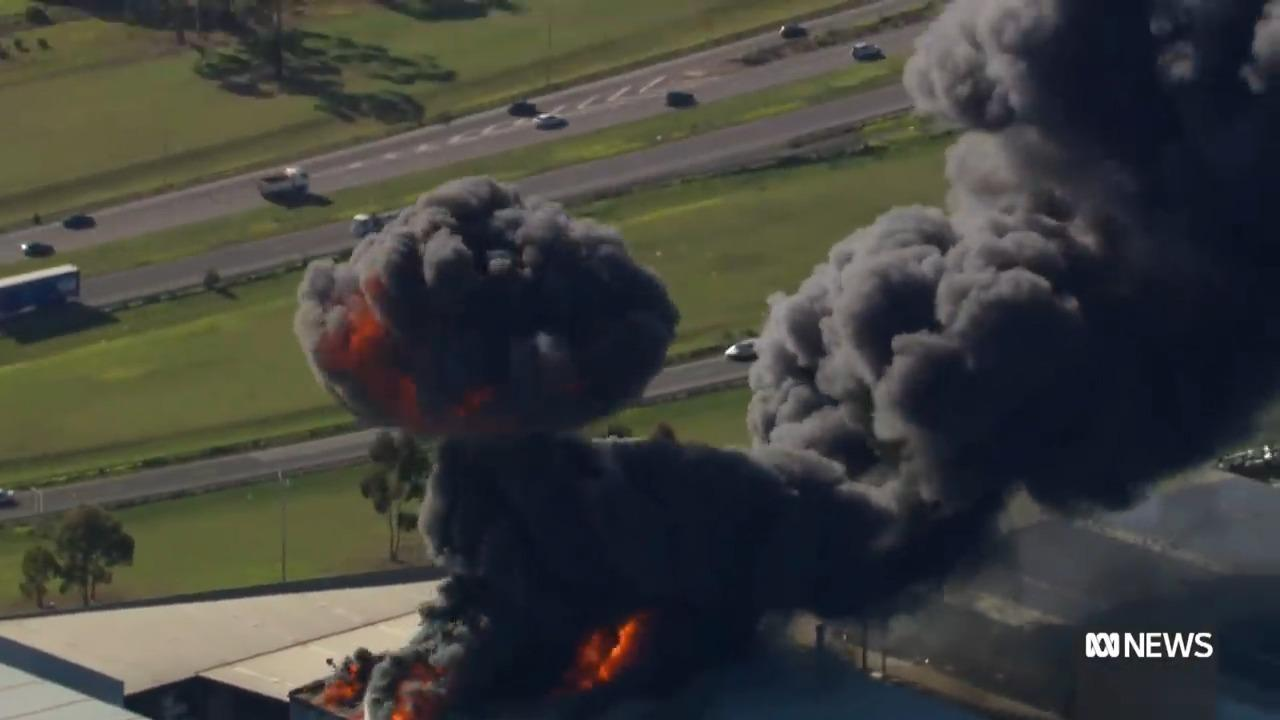fire: (577, 620, 648, 690)
